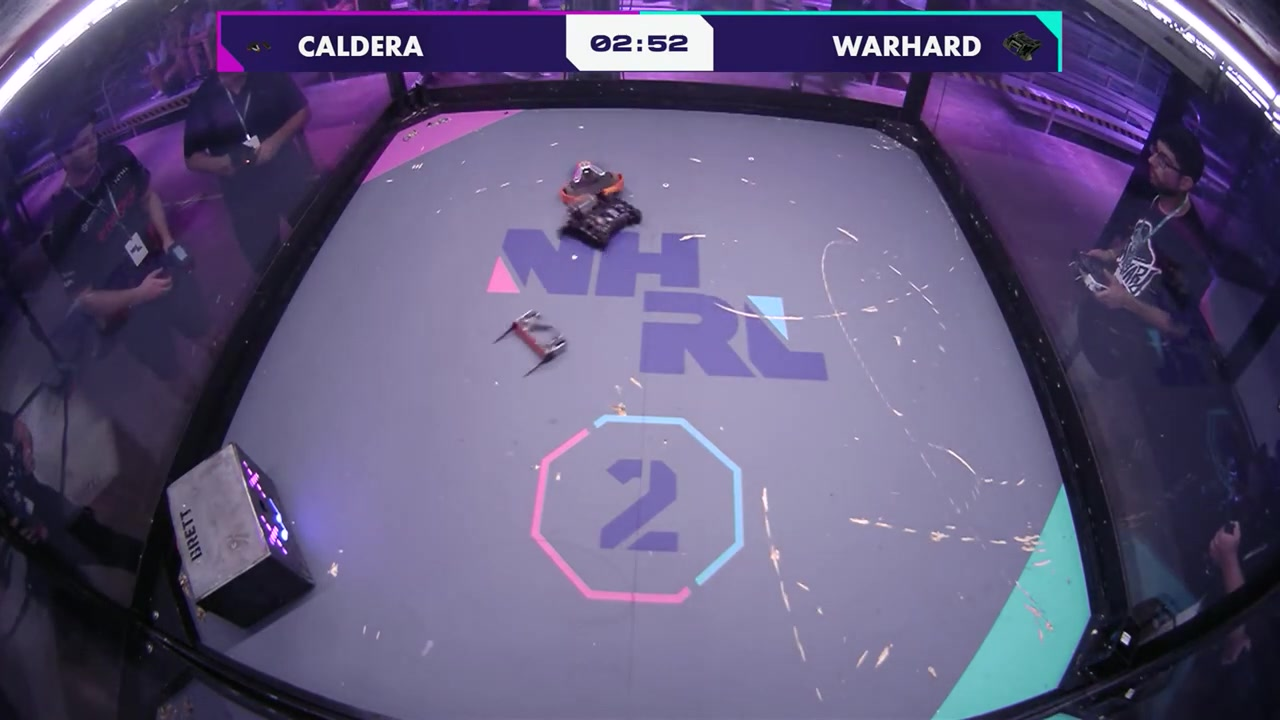combatbot: (556, 195, 644, 250), (557, 161, 626, 208)
housebot: (162, 443, 318, 630)
minibot: (491, 309, 567, 378)
